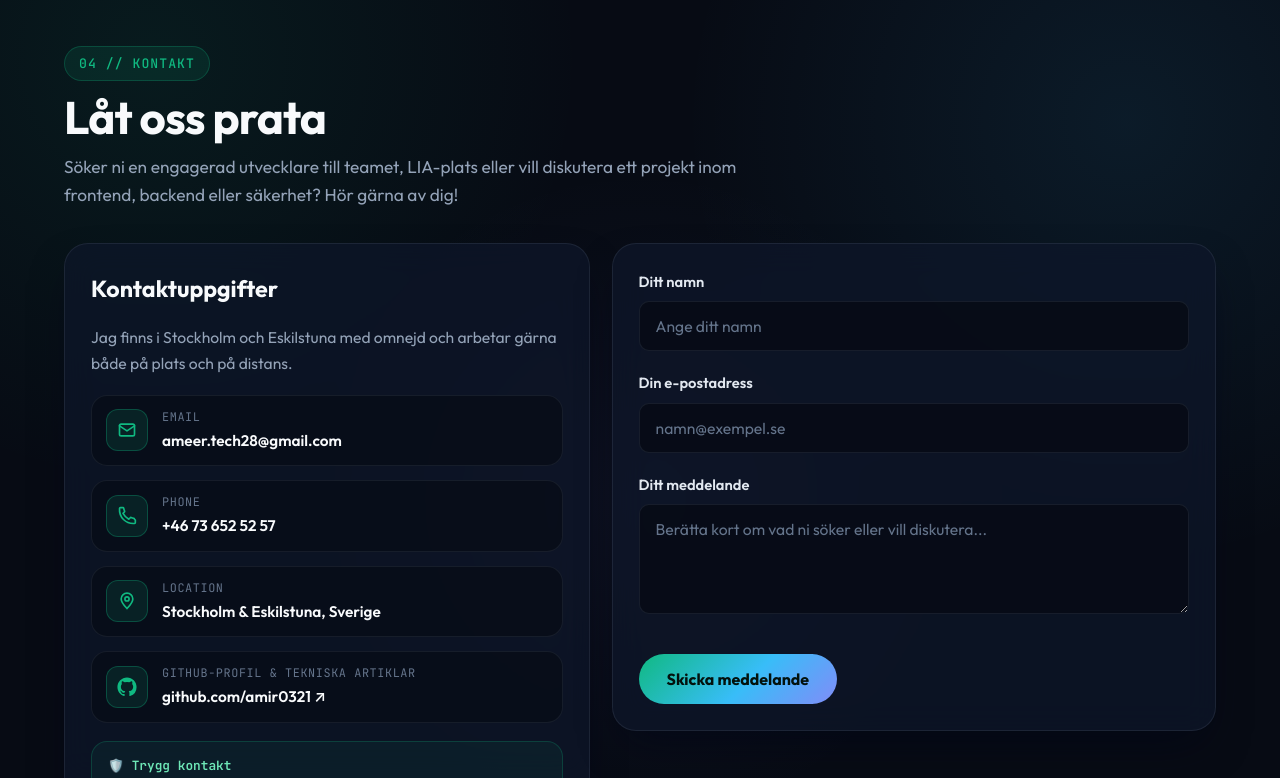
Test: contact form › rejects empty fields and invalid email before contacting the service
The image size is (1280, 778).
Submit the form labelled "Ditt namn", box [612,243,1216,731]
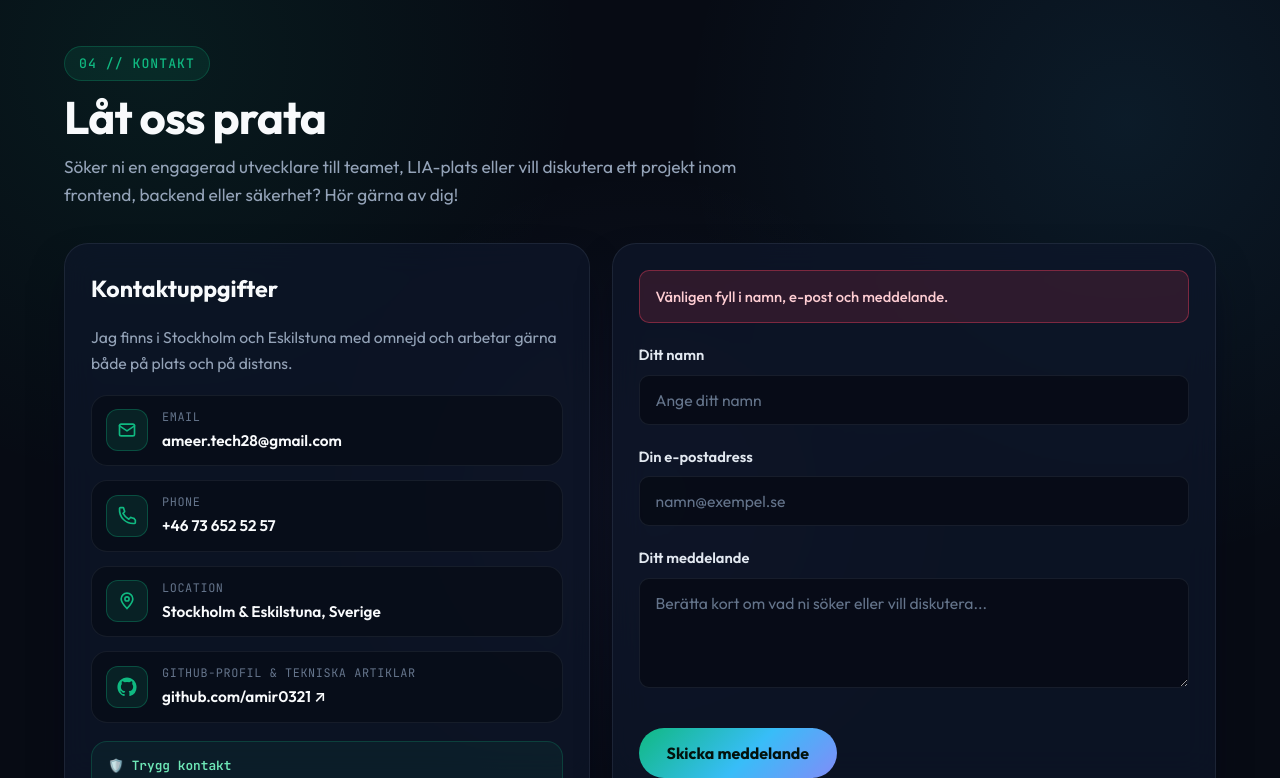
Check: the message shows "fyll i", box [656,287,948,306]
Type "Besökare" into the field labelled "Ditt namn". click: (914, 400)
box: [639,375,1189,425]
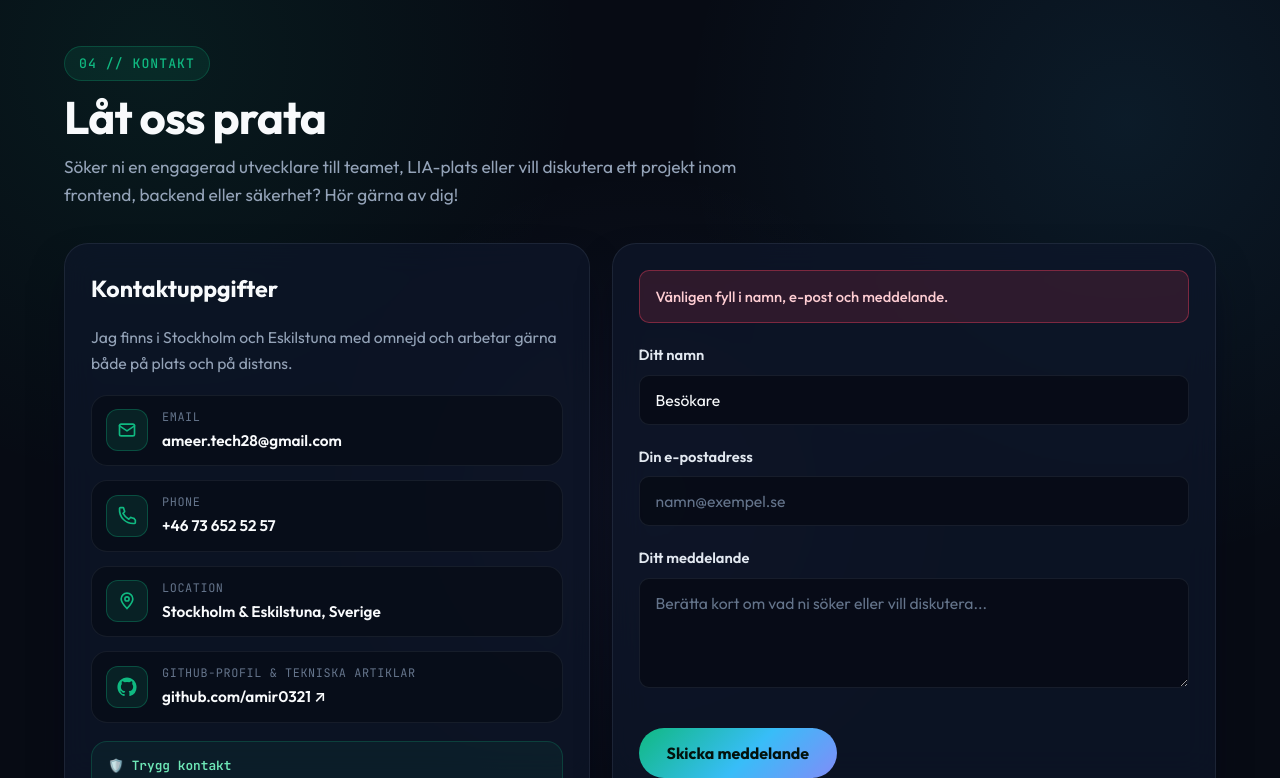
Type "not-an-email" into the field labelled "Din e-postadress". click: (914, 501)
box: [639,476,1189,526]
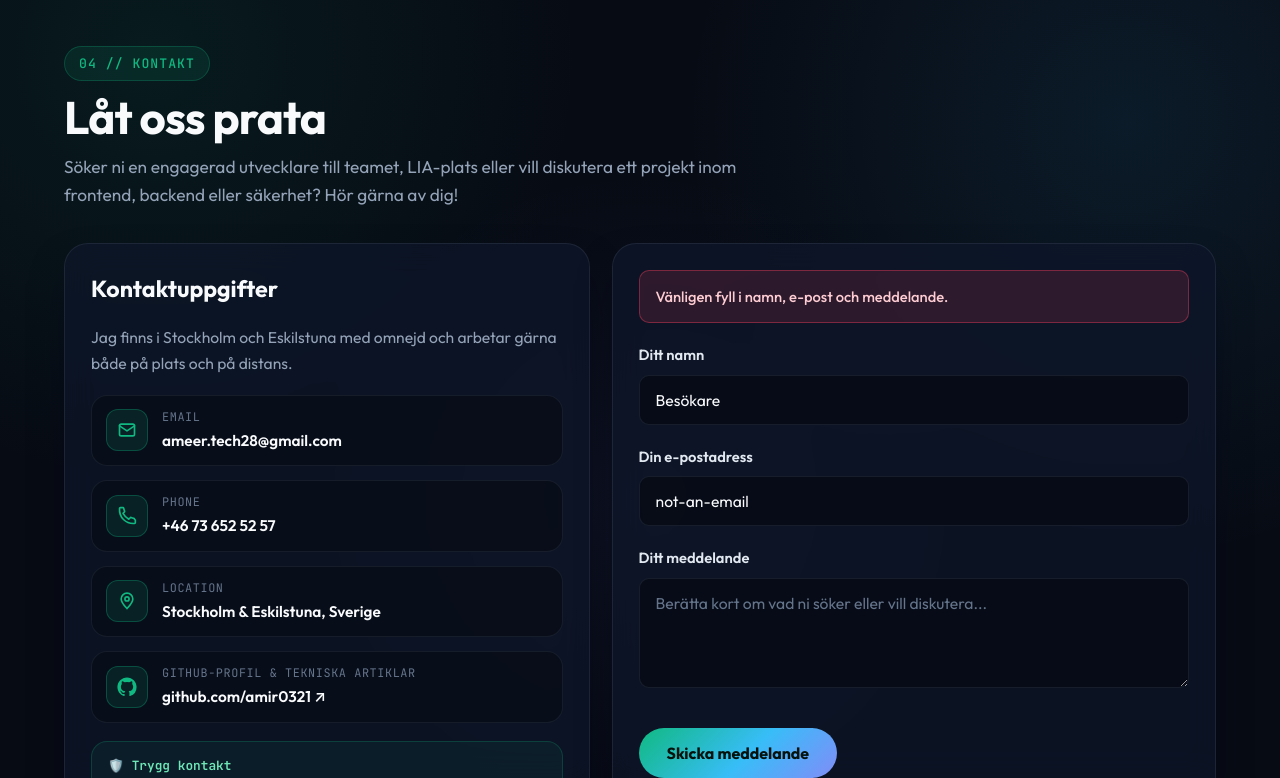
Type "Hej, jag vill diskutera ett projekt." into the text box labelled "Ditt meddelande". click: (914, 633)
box: [639,578,1189,688]
(page scrolled)
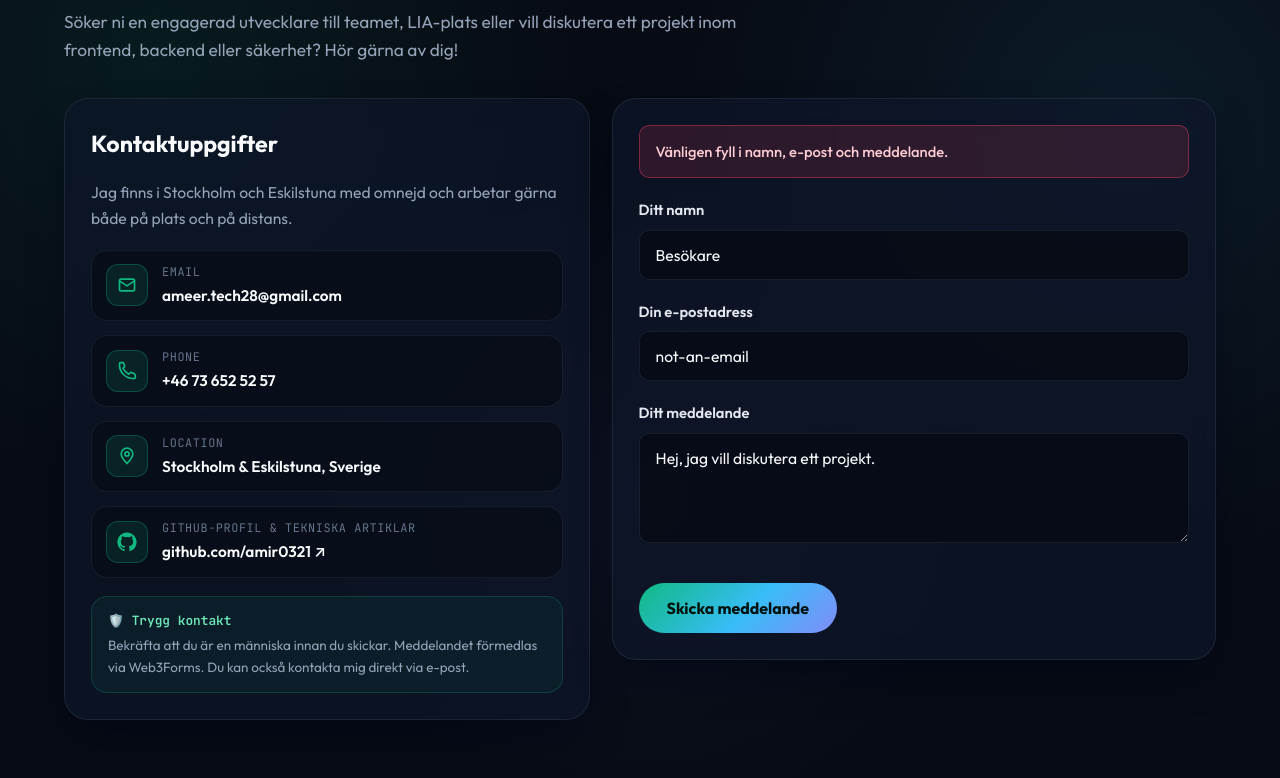
Submit the form labelled "Ditt namn", box [612,98,1216,660]
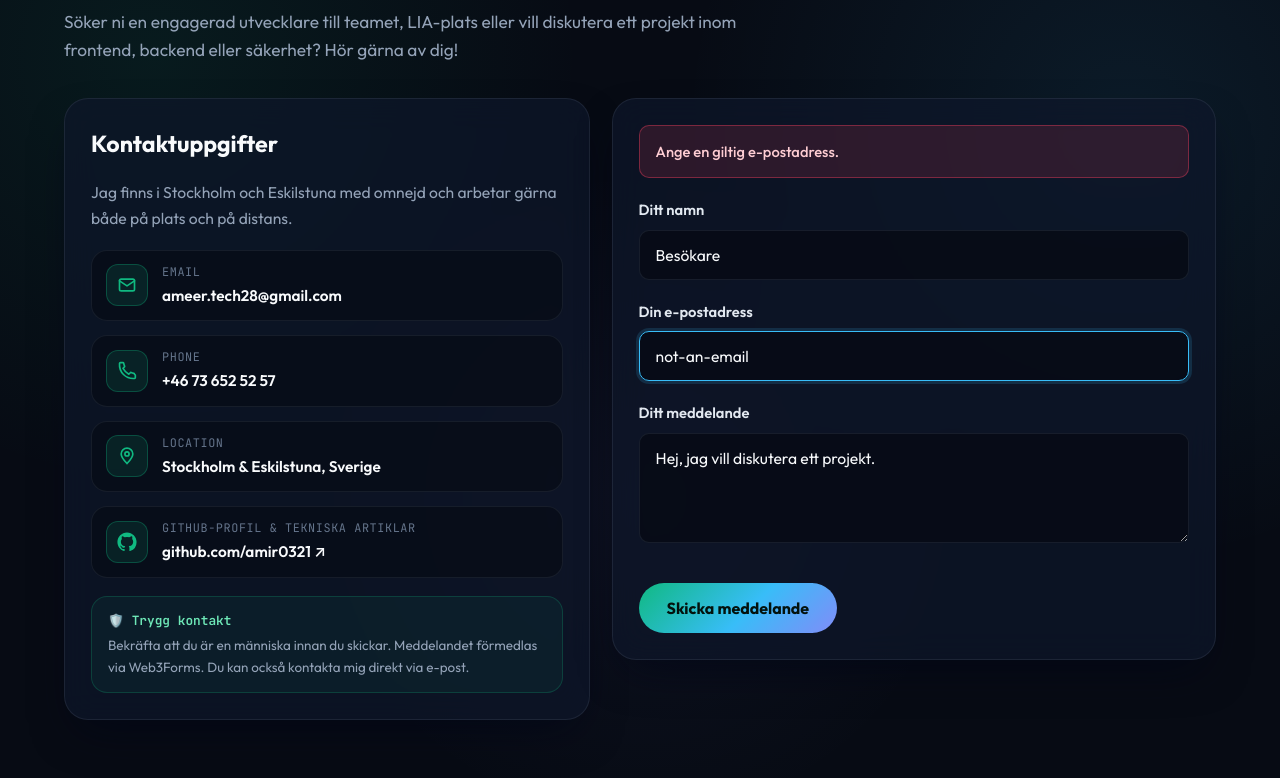
Check: the message shows "giltig e-postadress", box [656,142,839,161]
